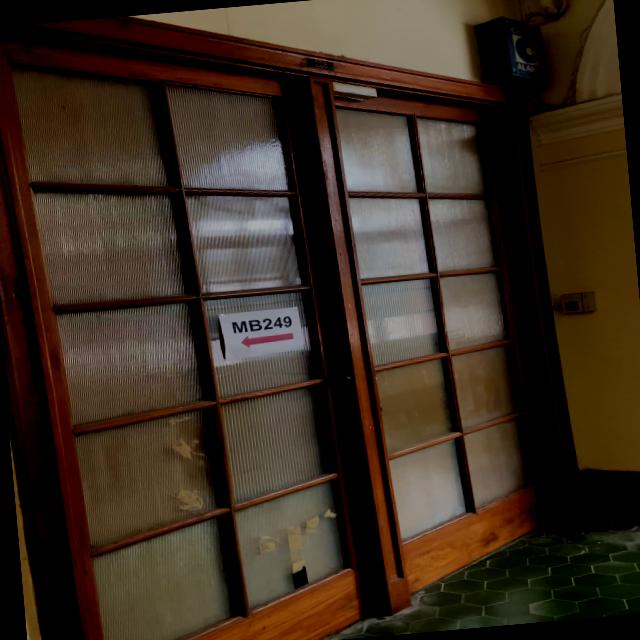room228: (305, 54, 335, 74)
